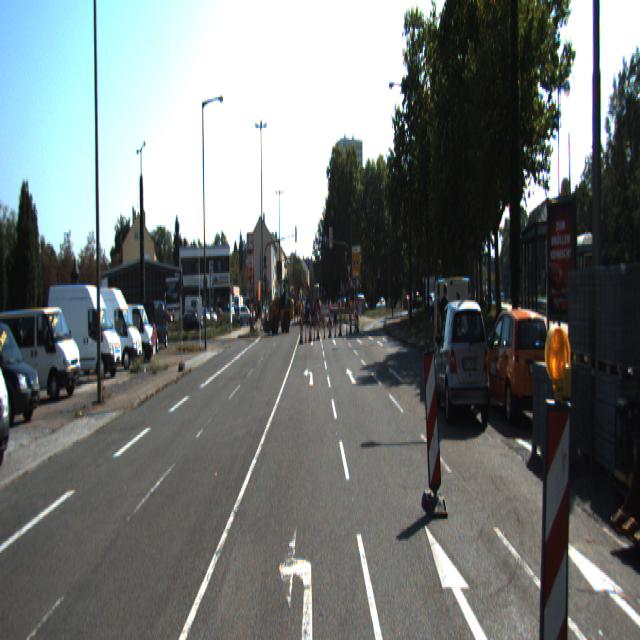Car: (481, 306, 556, 418), (0, 306, 83, 404), (46, 280, 123, 380), (432, 297, 492, 425), (74, 283, 141, 372), (0, 320, 44, 428), (0, 313, 15, 477), (262, 279, 294, 339)
